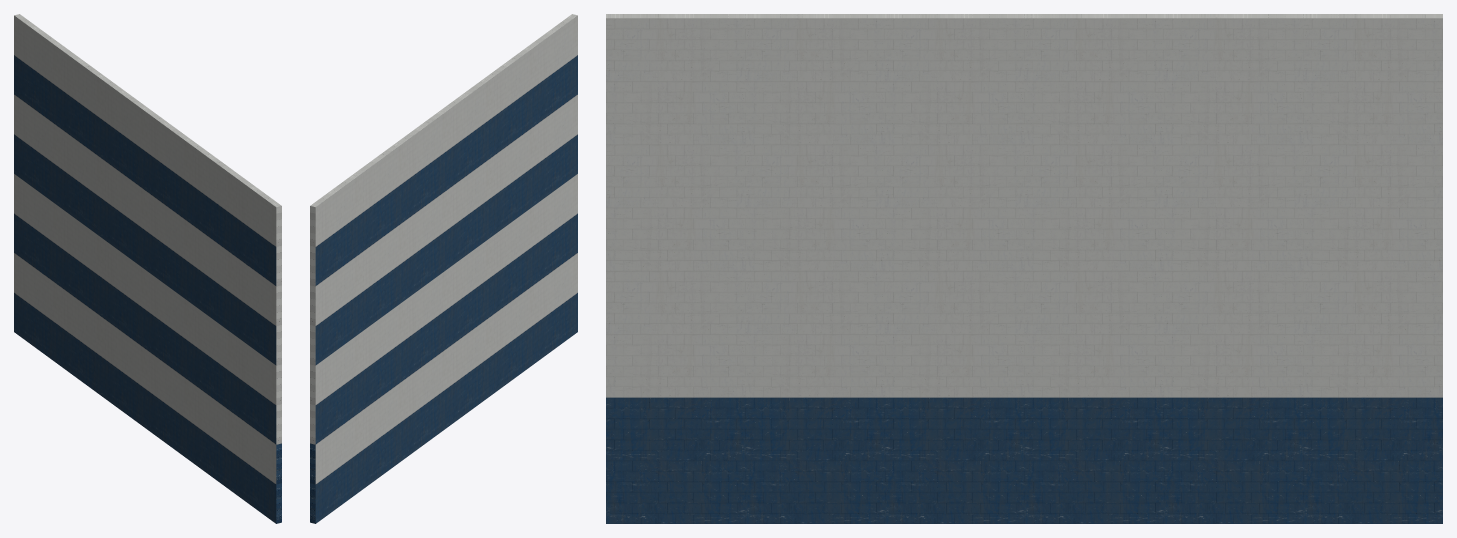
Rendered from Warehouse_Wall_Brick.FBX.
3 views of the same model, side by side, from view 1: azimuth 30°, elevation 25°; view 2: azimuth 150°, elevation 25°; view 3: azimuth 270°, elevation 25° (orthographic). The views are drawn at different scales.
Visible parts, largest first — view 1: Warehouse_Wall_Brick; view 2: Warehouse_Wall_Brick; view 3: Warehouse_Wall_Brick.
Boxes of the visible parts, x1,y1,x2,y2 form: Warehouse_Wall_Brick: (14,14,281,523); Warehouse_Wall_Brick: (310,14,577,523); Warehouse_Wall_Brick: (606,14,1442,523).
Bounding box in the file's own units: 6 × 320 × 480.
1 material, 1 textured.
